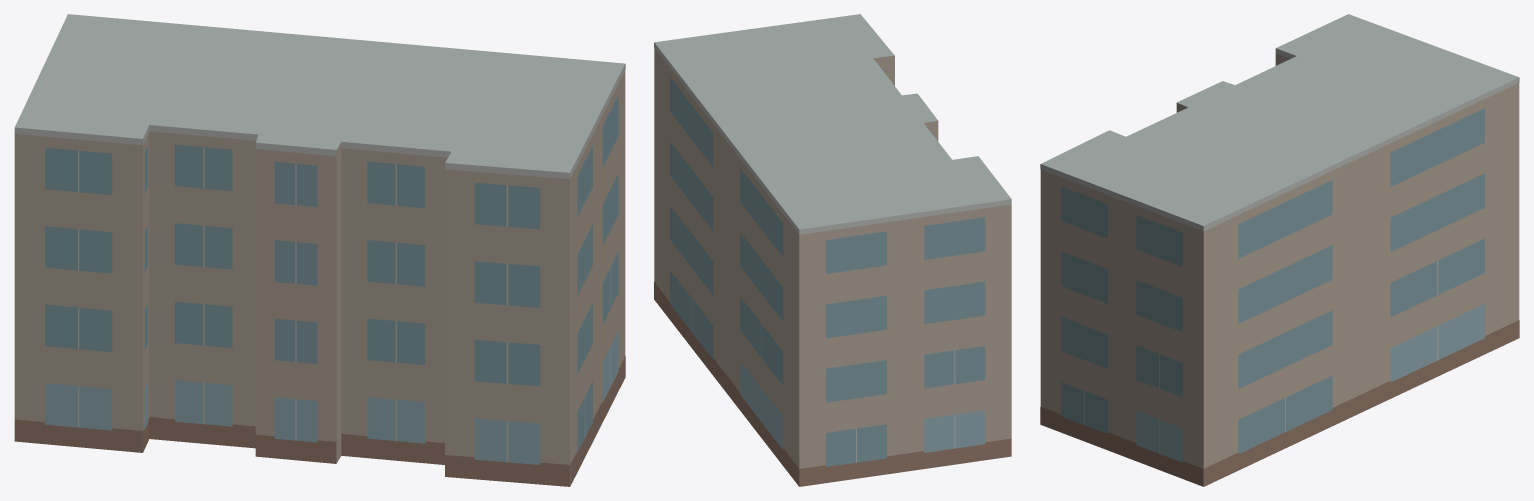
File: survey-upis-32539209.glb
3 renders of one model, left to right at view 1: azimuth 30°, elevation 25°; view 2: azimuth 150°, elevation 25°; view 3: azimuth 270°, elevation 25°, orthographic. The views are drawn at different scales.
Parts seen in each view (by area): view 1: survey-upis-32539209.tmp; view 2: survey-upis-32539209.tmp; view 3: survey-upis-32539209.tmp.
Part boxes in pixels (x1,y1,x2,y2): survey-upis-32539209.tmp: [14, 14, 625, 486]; survey-upis-32539209.tmp: [654, 14, 1011, 486]; survey-upis-32539209.tmp: [1040, 14, 1519, 486].
Bounding box in the file's own units: 20.95 × 12 × 19.98.
